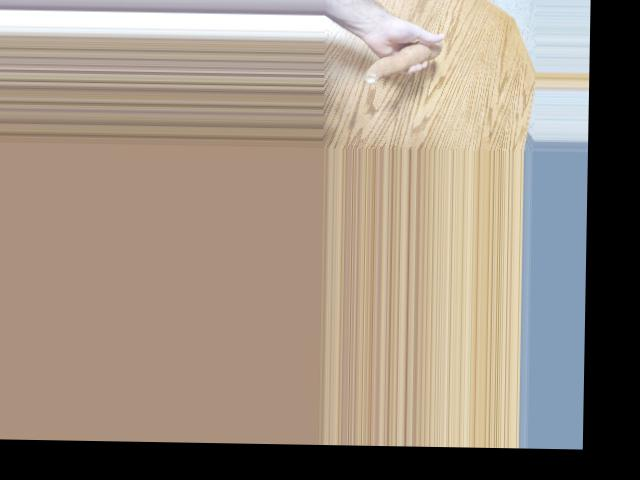sweet_potato: (361, 41, 438, 84)
